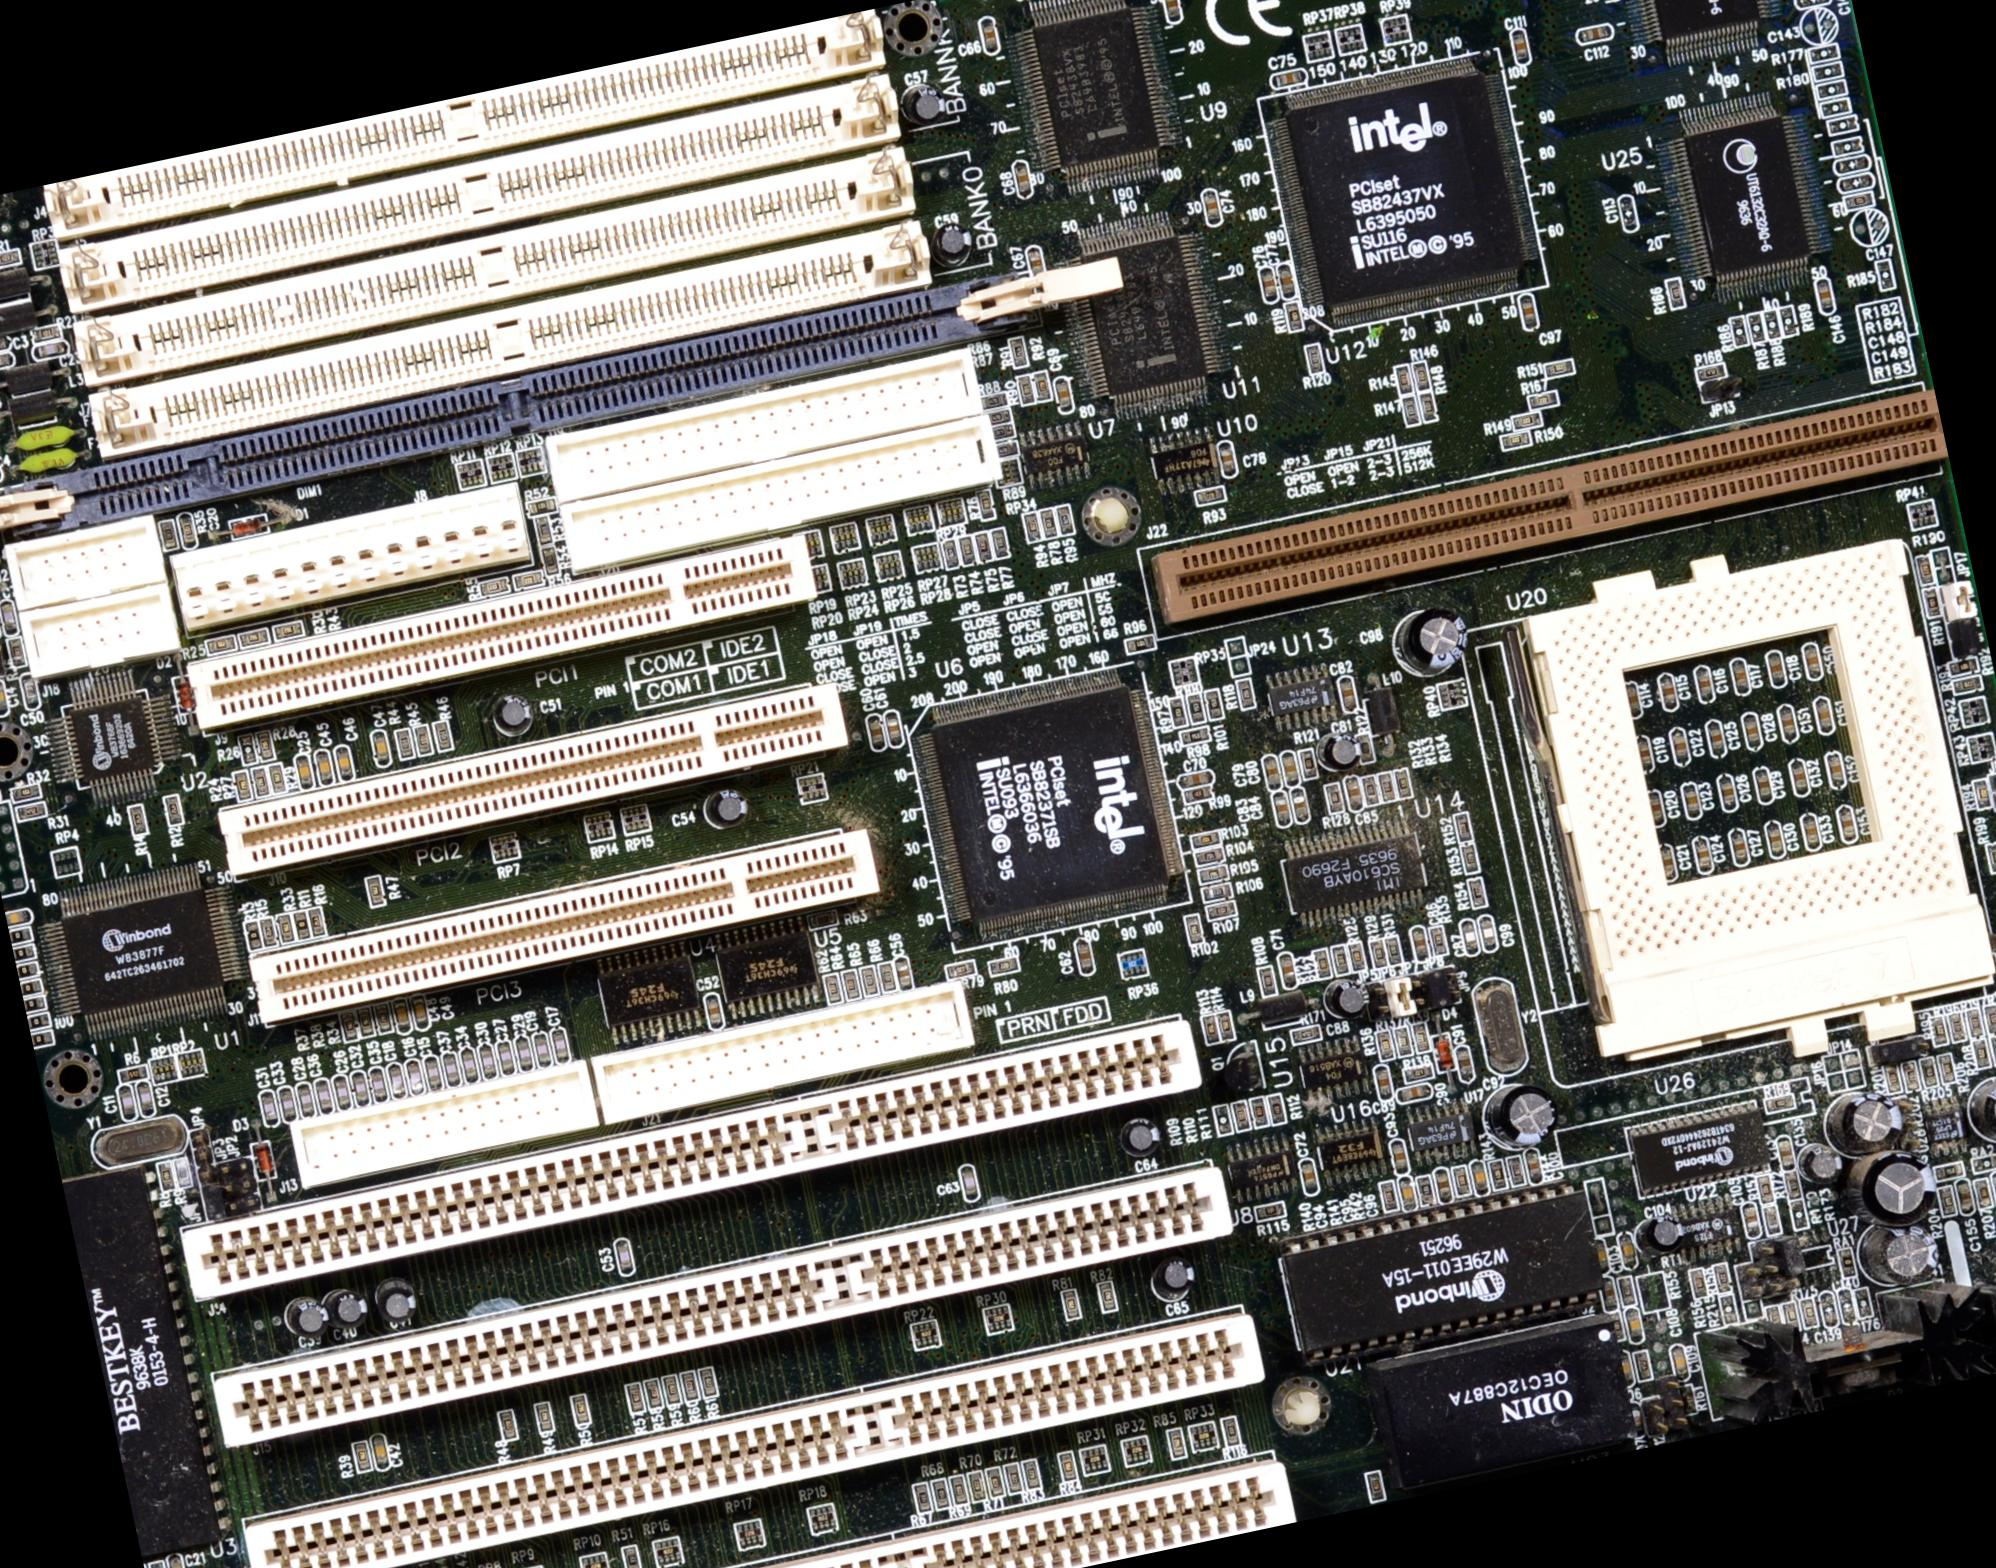Capacitor Jumper: (1317, 731, 1359, 773), (1711, 766, 1745, 815), (1771, 697, 1803, 747), (1614, 191, 1644, 241), (1831, 799, 1862, 846), (1675, 778, 1708, 821), (1806, 693, 1837, 739), (1690, 658, 1716, 706), (1738, 706, 1766, 752), (1797, 808, 1824, 854), (1700, 718, 1729, 760), (1763, 646, 1790, 690), (1824, 744, 1850, 789), (609, 1234, 637, 1276), (1785, 756, 1811, 800), (1798, 640, 1824, 682), (1294, 1155, 1320, 1195), (1737, 1200, 1763, 1241), (1669, 727, 1693, 769), (862, 716, 888, 755), (1751, 763, 1774, 807), (1690, 833, 1714, 873), (1476, 914, 1500, 954), (1369, 1063, 1393, 1103), (1834, 1286, 1858, 1327), (439, 1045, 462, 1087), (893, 956, 915, 998), (1644, 787, 1669, 826), (402, 1055, 426, 1093), (1952, 1178, 1977, 1216), (509, 1037, 535, 1072), (387, 1058, 410, 1098), (366, 1063, 389, 1103), (1763, 820, 1785, 860), (177, 512, 201, 549), (1725, 824, 1746, 867), (494, 1032, 517, 1071), (703, 991, 726, 1030), (314, 748, 337, 787), (1259, 756, 1283, 792), (113, 1084, 138, 1119), (1009, 160, 1034, 196), (531, 1029, 552, 1069), (1275, 949, 1296, 990), (1267, 68, 1307, 89), (0, 596, 21, 637), (962, 1163, 982, 1207), (1388, 1137, 1411, 1174), (1612, 1351, 1635, 1388), (1667, 1341, 1690, 1378), (1510, 28, 1533, 65), (1217, 441, 1239, 478), (1515, 296, 1541, 329), (1022, 241, 1047, 275), (1278, 748, 1299, 787), (1729, 656, 1750, 695), (478, 1037, 499, 1076), (1453, 1046, 1474, 1085), (1818, 1288, 1839, 1327), (1270, 792, 1293, 828), (1201, 190, 1223, 225), (1816, 279, 1839, 314), (1623, 679, 1643, 719), (460, 1045, 480, 1085), (1656, 674, 1677, 711), (136, 1080, 157, 1118), (332, 1072, 353, 1110), (1657, 842, 1678, 880), (371, 1434, 392, 1471), (1622, 1307, 1644, 1341), (1578, 23, 1612, 45), (423, 1051, 442, 1090), (1395, 1084, 1434, 1103), (549, 1029, 570, 1064), (1469, 1160, 1491, 1195), (1776, 1136, 1797, 1171), (31, 342, 66, 363), (1055, 376, 1076, 411), (334, 747, 355, 782), (296, 1079, 316, 1116), (1636, 734, 1654, 773), (261, 1090, 280, 1126), (279, 1087, 298, 1123), (1432, 1166, 1452, 1202), (1597, 1275, 1615, 1312), (1283, 262, 1301, 300), (1617, 1233, 1636, 1267), (1260, 269, 1280, 303), (1176, 769, 1212, 787), (1345, 774, 1363, 810), (1291, 787, 1309, 823), (318, 1076, 335, 1111), (1410, 925, 1427, 961), (1525, 1150, 1542, 1186), (408, 995, 428, 1027), (1460, 922, 1479, 954), (982, 16, 1001, 49), (353, 1071, 371, 1105), (371, 729, 389, 763), (19, 675, 39, 706), (392, 996, 410, 1029), (1398, 1178, 1416, 1210), (295, 755, 313, 787), (1340, 677, 1358, 709), (883, 713, 901, 744), (1793, 0, 1832, 13), (1165, 0, 1186, 23), (1628, 1403, 1643, 1435), (0, 350, 18, 376), (5, 907, 31, 925), (1594, 1241, 1609, 1272), (0, 680, 10, 718), (167, 1553, 190, 1566), (0, 332, 8, 355)
Connector: (0, 261, 1073, 560), (214, 1165, 1231, 1450), (183, 1020, 1201, 1297), (240, 1302, 1270, 1566), (68, 139, 927, 389), (44, 10, 886, 245), (96, 220, 930, 455), (62, 79, 894, 311), (296, 982, 974, 1186), (245, 824, 885, 1029), (222, 677, 847, 880), (188, 538, 813, 727), (280, 1459, 1278, 1566), (549, 347, 988, 501), (562, 418, 998, 569), (173, 478, 533, 624), (6, 515, 167, 612), (15, 593, 181, 675)
IC: (1254, 44, 1547, 342), (907, 653, 1191, 943), (63, 1163, 235, 1558), (1273, 1166, 1610, 1367), (1361, 1315, 1640, 1500), (34, 855, 254, 1045), (1048, 211, 1236, 415), (1004, 0, 1191, 202), (1667, 84, 1839, 300), (41, 663, 190, 812), (1269, 810, 1437, 935), (591, 940, 710, 1053), (1623, 1105, 1763, 1191), (1606, 0, 1792, 62), (1215, 1129, 1299, 1205), (1019, 416, 1097, 489), (1293, 1035, 1372, 1106), (1403, 1097, 1481, 1166), (1312, 1118, 1385, 1186), (1149, 428, 1222, 496), (1264, 666, 1340, 727)
Resistor Jumper: (1055, 1281, 1087, 1328), (982, 429, 1017, 462), (1001, 1459, 1027, 1497), (1191, 483, 1230, 507), (857, 965, 883, 1001), (1217, 1414, 1243, 1450), (1745, 314, 1771, 348), (1759, 1202, 1784, 1238), (1852, 1286, 1876, 1322), (1400, 394, 1422, 431), (1510, 408, 1542, 434), (807, 907, 841, 931), (1189, 844, 1223, 868), (1183, 915, 1207, 949), (1226, 1100, 1251, 1134), (1092, 1278, 1116, 1312), (352, 1438, 376, 1472), (1288, 1022, 1324, 1045), (1377, 1178, 1400, 1213), (677, 1366, 700, 1401), (1008, 335, 1030, 371), (1810, 40, 1840, 66), (1934, 1186, 1959, 1218), (1525, 387, 1557, 411), (235, 734, 259, 766), (951, 1472, 972, 1510), (117, 1063, 151, 1085), (170, 1157, 193, 1191), (1252, 1202, 1286, 1225), (1787, 1197, 1810, 1231), (249, 761, 272, 795), (1839, 170, 1878, 190), (1826, 112, 1862, 133), (271, 620, 306, 641), (1123, 633, 1158, 654), (1456, 844, 1481, 875), (1818, 94, 1849, 118), (1541, 356, 1572, 381), (228, 771, 253, 802), (841, 970, 864, 1003), (1264, 1092, 1286, 1124), (1165, 1429, 1188, 1461), (1016, 374, 1039, 407), (204, 633, 237, 656), (1400, 1064, 1437, 1084), (1831, 138, 1868, 157), (1947, 656, 1981, 677), (1949, 674, 1983, 695), (1411, 1020, 1432, 1055), (1414, 1173, 1435, 1207), (1972, 1176, 1993, 1210), (525, 497, 559, 518), (1729, 314, 1750, 348), (1696, 361, 1730, 382), (912, 1481, 935, 1511), (1392, 364, 1414, 395), (821, 969, 842, 1001), (533, 1400, 554, 1432), (974, 390, 1006, 411), (10, 782, 42, 803), (617, 1540, 643, 1566), (374, 999, 394, 1033), (339, 1011, 358, 1045), (1217, 1009, 1236, 1043), (1487, 1158, 1507, 1192), (698, 1362, 718, 1396), (157, 518, 180, 548), (366, 873, 386, 907), (1212, 1103, 1233, 1134), (1711, 1262, 1732, 1293), (1763, 309, 1784, 340), (1418, 394, 1439, 424), (979, 489, 1000, 520), (412, 724, 433, 755), (646, 1375, 664, 1411), (1325, 782, 1345, 815), (880, 962, 899, 995), (1204, 901, 1236, 920), (1763, 1095, 1795, 1114), (1933, 1160, 1965, 1179), (1781, 1301, 1800, 1333), (31, 324, 63, 343), (1304, 342, 1324, 374), (1874, 258, 1894, 290), (256, 731, 275, 763), (13, 802, 45, 821), (1204, 688, 1223, 721), (1022, 1459, 1043, 1489), (1798, 1299, 1819, 1328), (128, 805, 149, 834), (1196, 867, 1230, 884), (932, 1477, 949, 1511), (1366, 1469, 1384, 1503), (959, 533, 977, 567), (1921, 585, 1939, 619), (1834, 156, 1871, 172), (1296, 747, 1316, 778), (1191, 828, 1222, 847), (355, 1006, 374, 1037), (1201, 883, 1231, 902), (157, 1160, 177, 1191), (1257, 965, 1277, 996), (1201, 1014, 1220, 1045), (1393, 1024, 1413, 1055), (1928, 1016, 1947, 1046), (1965, 1009, 1985, 1040), (1756, 1173, 1776, 1204), (1688, 1268, 1708, 1299), (6, 637, 26, 667), (1413, 360, 1432, 390), (238, 628, 269, 648), (1499, 429, 1529, 449), (395, 727, 415, 758), (267, 763, 287, 794), (308, 904, 327, 935), (1021, 515, 1043, 541), (569, 1395, 590, 1422), (990, 526, 1011, 554), (1330, 943, 1348, 975), (1431, 923, 1448, 956), (1367, 938, 1385, 970), (1947, 1011, 1965, 1043), (1938, 1053, 1955, 1085), (1058, 1451, 1076, 1484), (1808, 65, 1844, 81), (167, 794, 185, 826), (1312, 949, 1332, 978), (1917, 1058, 1936, 1087), (983, 1464, 1003, 1493), (433, 719, 452, 748), (0, 246, 23, 271), (1377, 769, 1395, 800), (1361, 774, 1379, 805), (1392, 768, 1410, 799), (1453, 812, 1471, 842), (1348, 941, 1366, 972), (1249, 1098, 1267, 1129), (1507, 1155, 1525, 1186), (1037, 371, 1055, 402), (974, 533, 992, 564), (1468, 880, 1487, 907), (277, 914, 296, 941), (1178, 786, 1210, 802), (499, 1409, 517, 1438), (1619, 1275, 1636, 1304), (1285, 301, 1303, 330), (1188, 693, 1205, 722), (1917, 556, 1934, 585), (1968, 1153, 1994, 1173), (992, 424, 1017, 444), (1358, 732, 1374, 763), (1884, 1064, 1900, 1095), (625, 1380, 642, 1411), (514, 570, 544, 586), (1384, 936, 1401, 964), (1452, 1166, 1469, 1194), (1719, 1294, 1737, 1322), (985, 408, 1013, 426), (535, 517, 552, 544), (481, 578, 509, 596), (259, 918, 277, 946), (28, 1011, 50, 1032), (664, 1372, 679, 1404), (967, 1469, 983, 1498), (541, 546, 557, 575), (1779, 305, 1795, 334), (11, 943, 36, 962), (16, 959, 41, 978), (293, 910, 309, 940), (1179, 727, 1209, 744), (1377, 1030, 1395, 1056), (1784, 1173, 1802, 1199), (1815, 83, 1845, 97), (246, 920, 261, 951), (1972, 781, 1988, 808), (1900, 1061, 1917, 1089), (1667, 280, 1683, 308), (1055, 504, 1071, 531), (1170, 700, 1186, 727), (10, 925, 34, 943), (31, 1030, 57, 1046), (1981, 1003, 1994, 1035), (943, 539, 959, 565), (21, 978, 44, 996), (24, 995, 47, 1012), (1975, 1040, 1990, 1067), (1042, 509, 1056, 536), (1236, 679, 1251, 706), (1986, 844, 1994, 875), (1990, 1037, 1994, 1064)
iC: (703, 914, 831, 1027)
